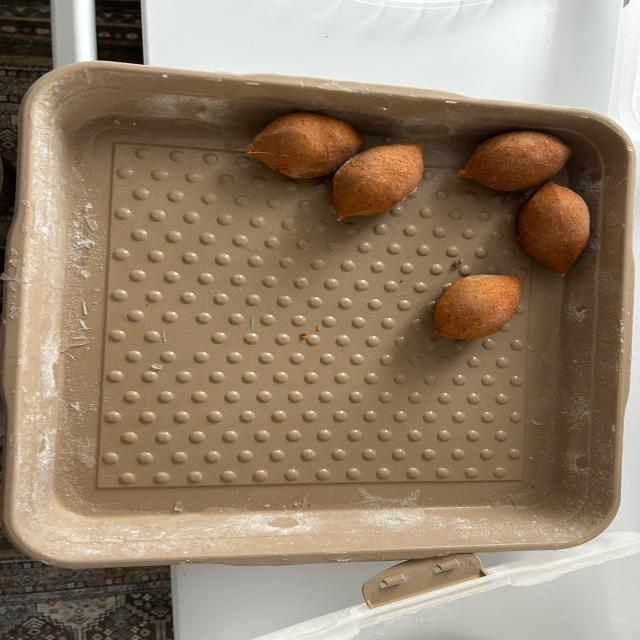kobi: (238, 114, 373, 178), (520, 180, 603, 280), (324, 144, 425, 226), (451, 134, 570, 191), (426, 276, 527, 341)
